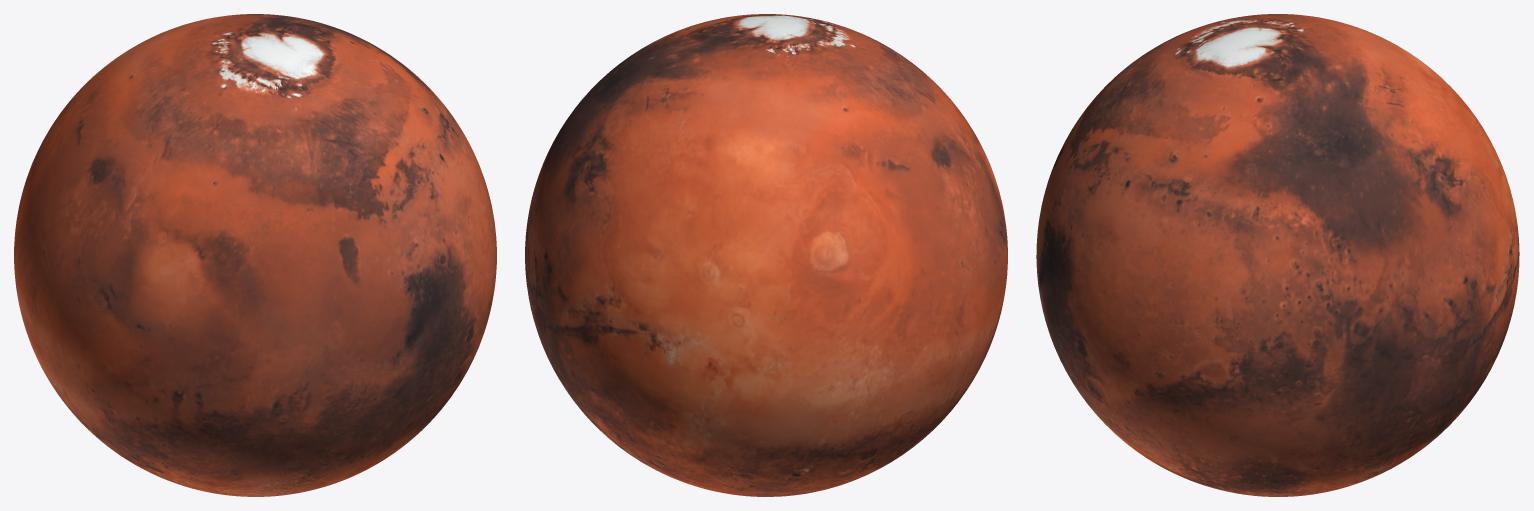
File: mars.glb
3 renders of one model, left to right at view 1: azimuth 30°, elevation 25°; view 2: azimuth 150°, elevation 25°; view 3: azimuth 270°, elevation 25°, orthographic.
Parts seen in each view (by area): view 1: mars_1; view 2: mars_1; view 3: mars_1.
Boxes of the visible parts, left/top/right/bottom form: mars_1: left=14, top=14, right=496, bottom=496; mars_1: left=525, top=14, right=1007, bottom=496; mars_1: left=1036, top=14, right=1519, bottom=496.
Size of the model in its own units: 5.09 by 5.09 by 5.09.
Materials: 1 (1 with a texture image).
